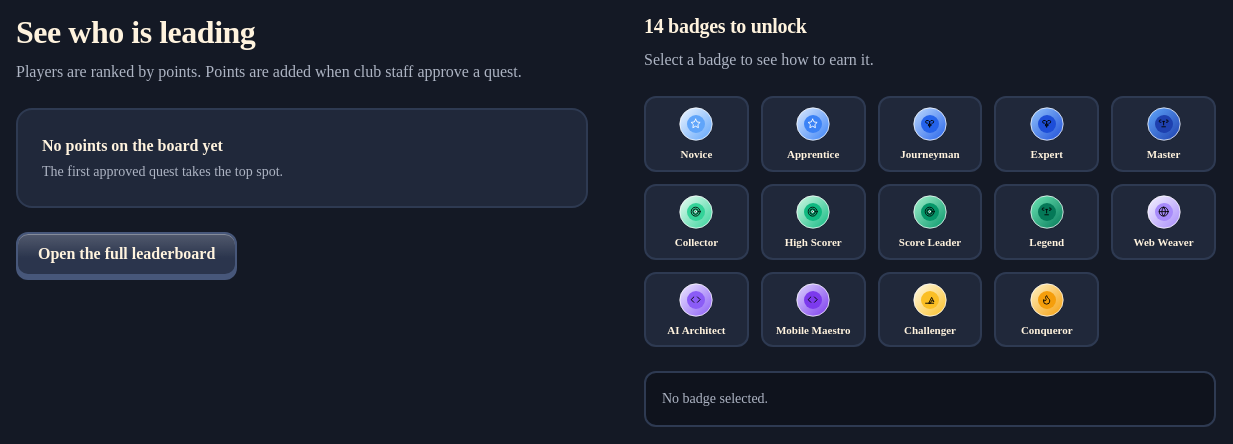
it: LeaderboardSection › lists all 14 badges and reveals a requirement on selection
Expected: the heading "14 badges to unlock" is shown, [644,15,807,37]
Expected: the button "Novice" is shown, [644,96,749,172]
Click the button "Web Weaver".
click(1164, 222)  # box [1111,184,1216,260]
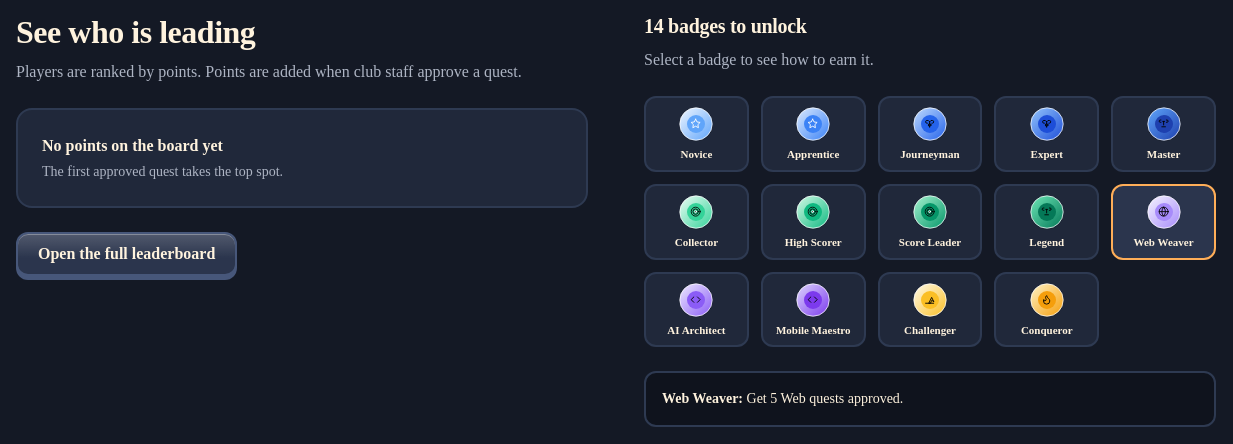
Expected: the element with test id "badge-requirement-box" shows "Get 5 Web quests approved.", [746,391,903,406]
Click the button "Web Weaver".
click(1164, 222)  # box [1111,184,1216,260]
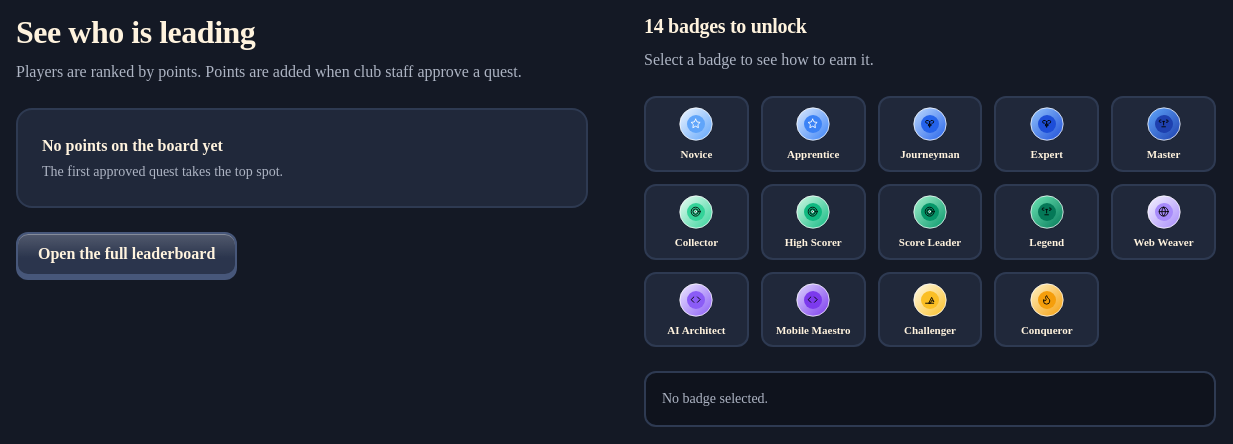
Expected: the element with test id "badge-requirement-box" reads "No badge selected.", [662,391,768,406]
